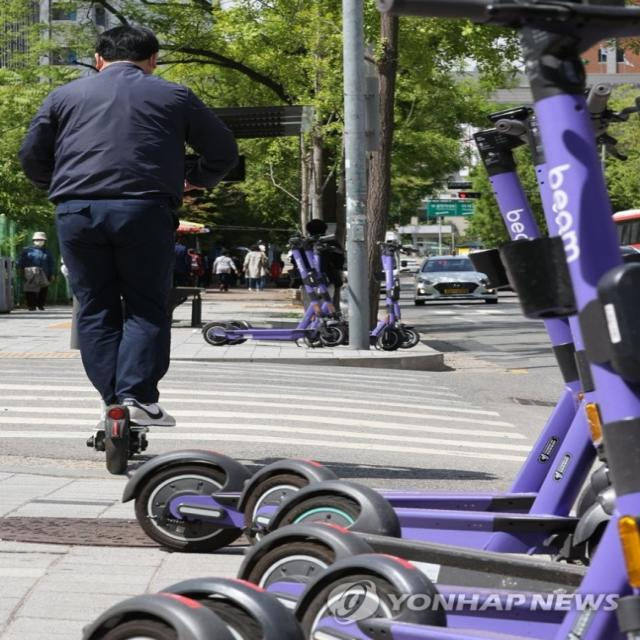non-helmet: (1, 21, 251, 481)
